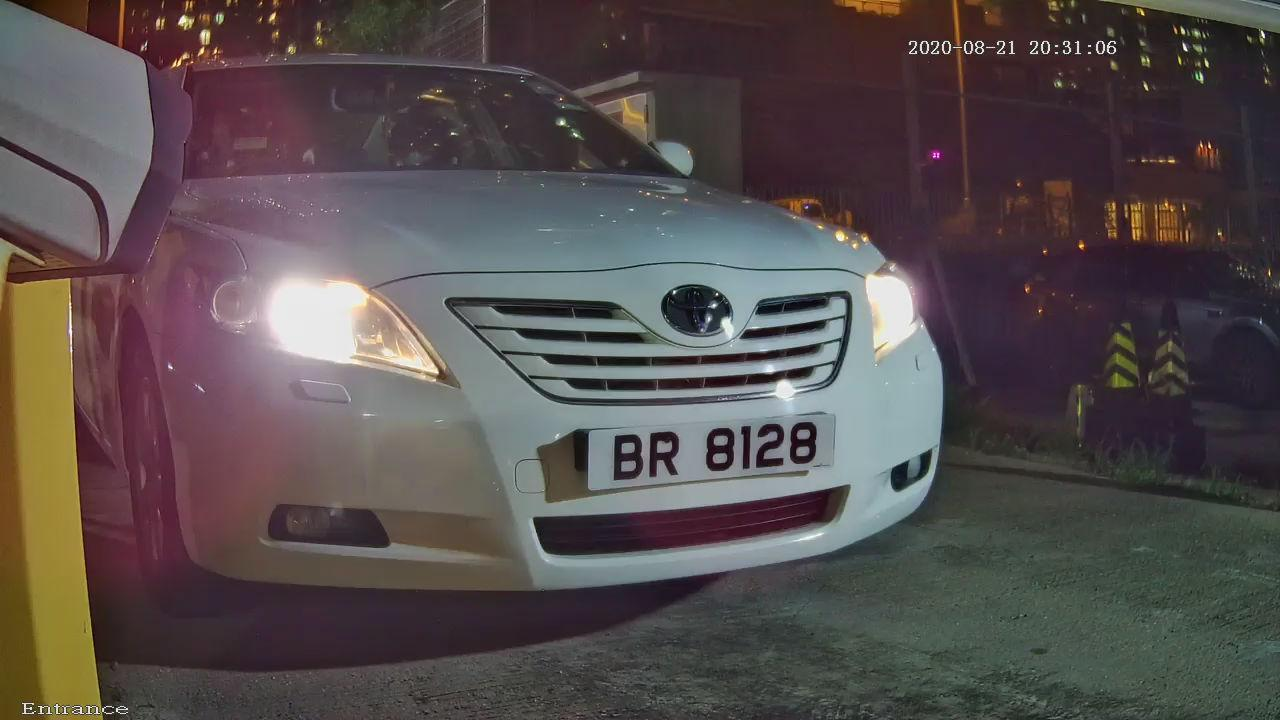Car: (41, 7, 1023, 656)
License Plate: (553, 385, 872, 512)
